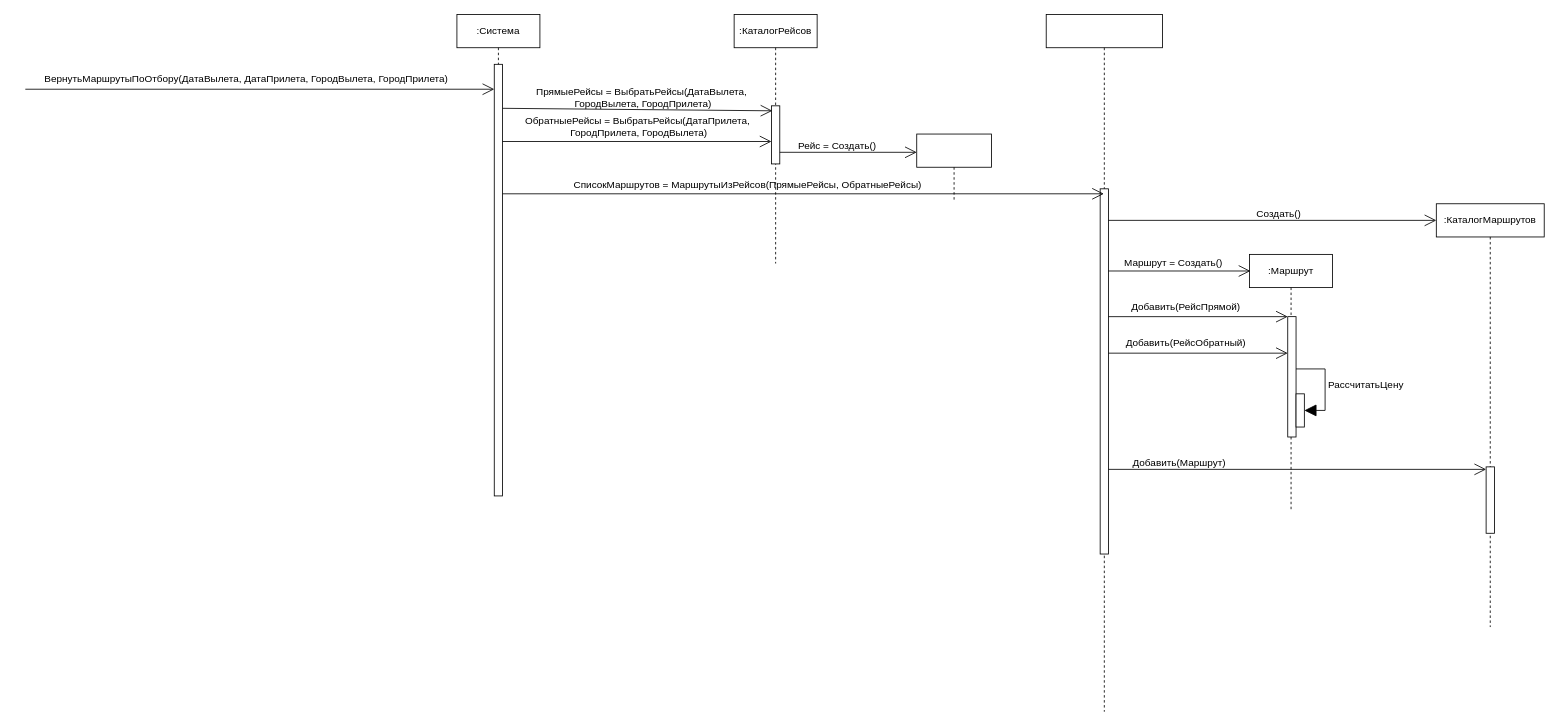
The diagram is 1559 pixels wide and 726 high, and some of its shapes have lost their labels. The box of each missing label's shape, as (x1, y1, x2, y2) in pixels:
:Рейс: (916, 133, 991, 202)
:СборщикМаршрутов: (1045, 14, 1162, 712)
